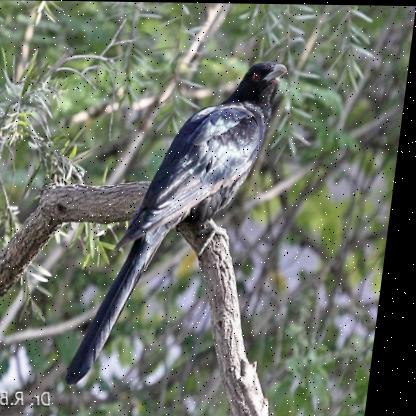Burung: (75, 57, 291, 389)
